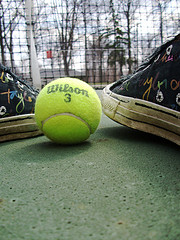tennis ball: (33, 77, 101, 146)
